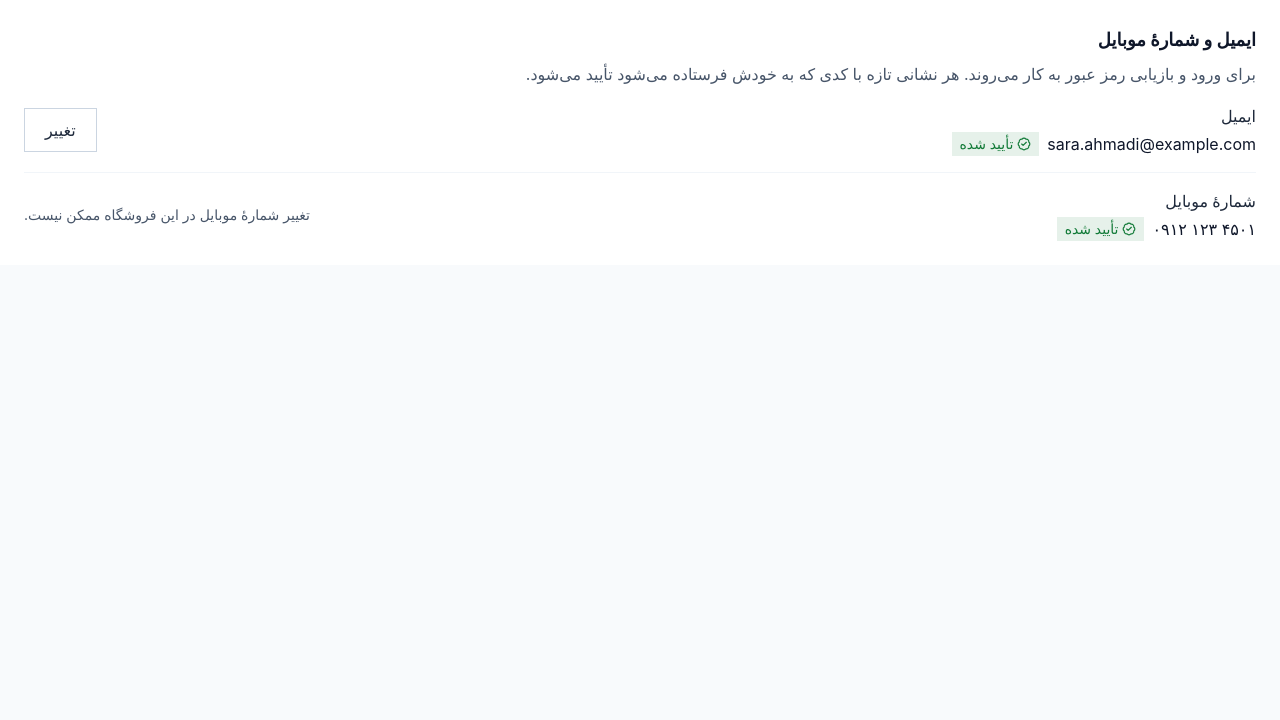
Test case: the authenticator code of a contact change › a code sent spent it: «ارسال مجدد کد» goes back for the next one
Click the button with aria-label "تغییر ایمیل" at (60, 130), box [24, 108, 97, 152]
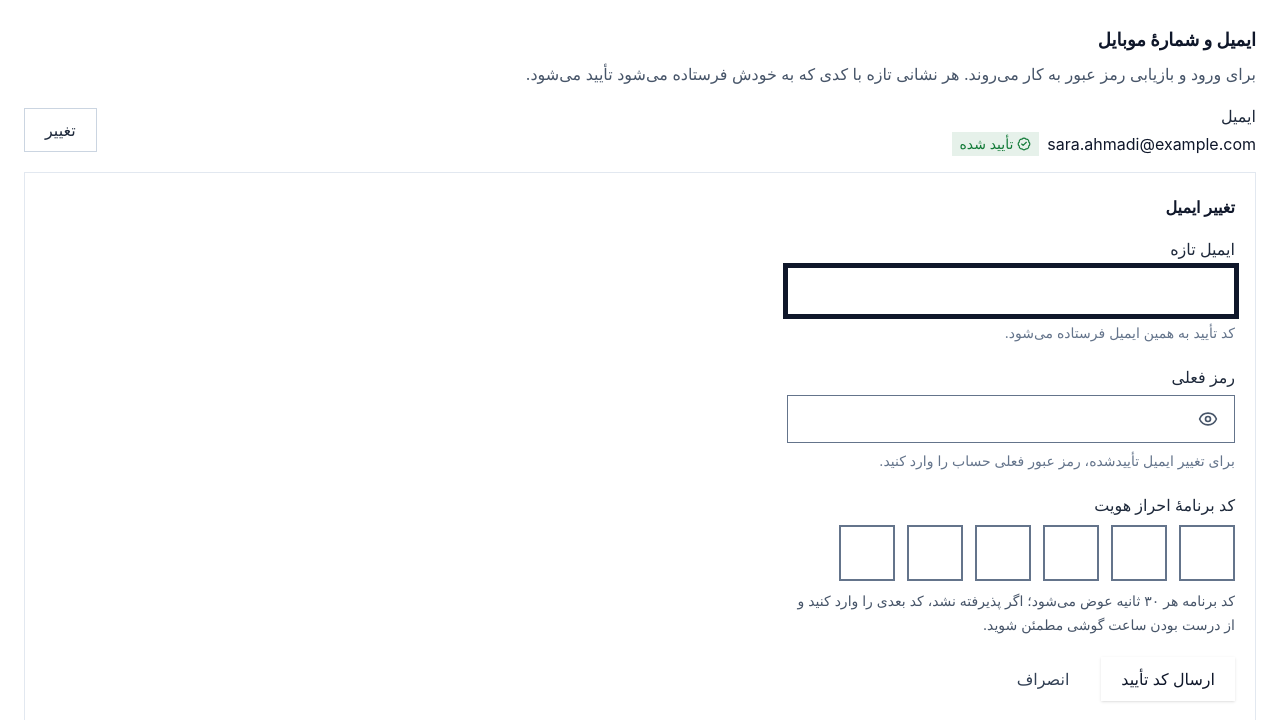
Type "n@example.com" into the field labelled "ایمیل تازه" at (1011, 291), box [788, 268, 1234, 314]
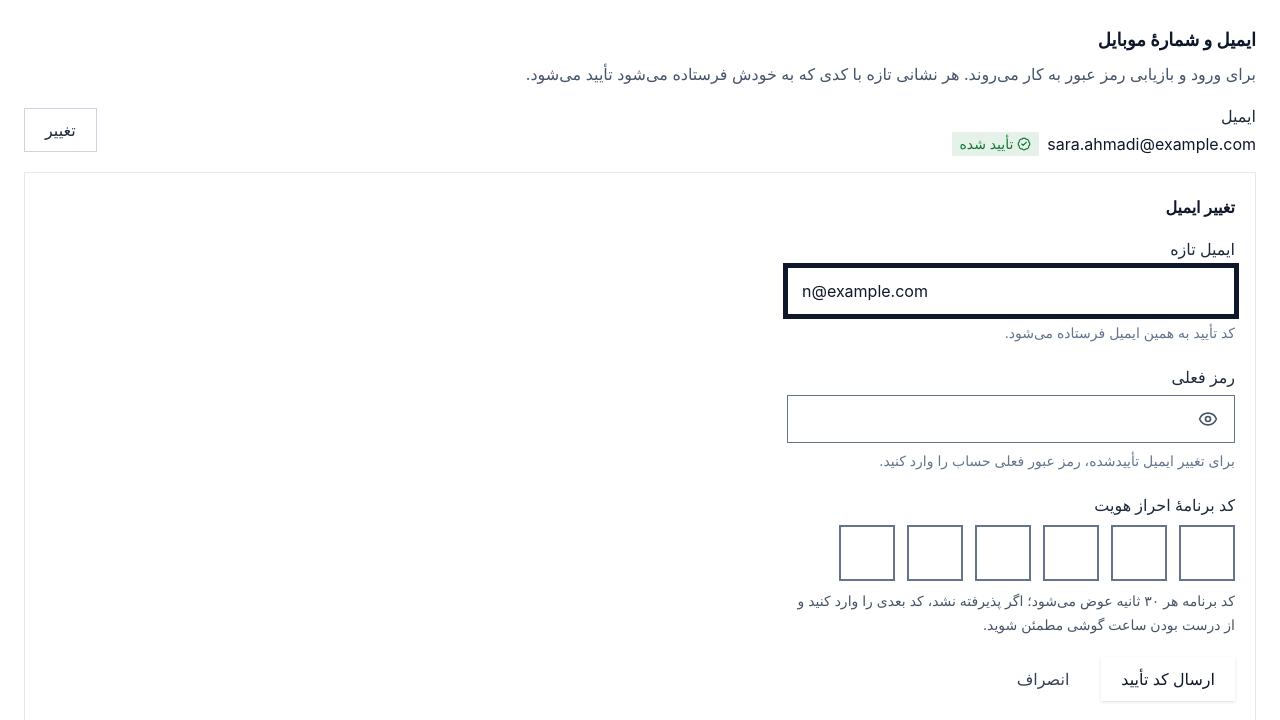
Type "Firefly@1234" into the password field labelled "رمز فعلی" at (987, 419), box [788, 396, 1186, 442]
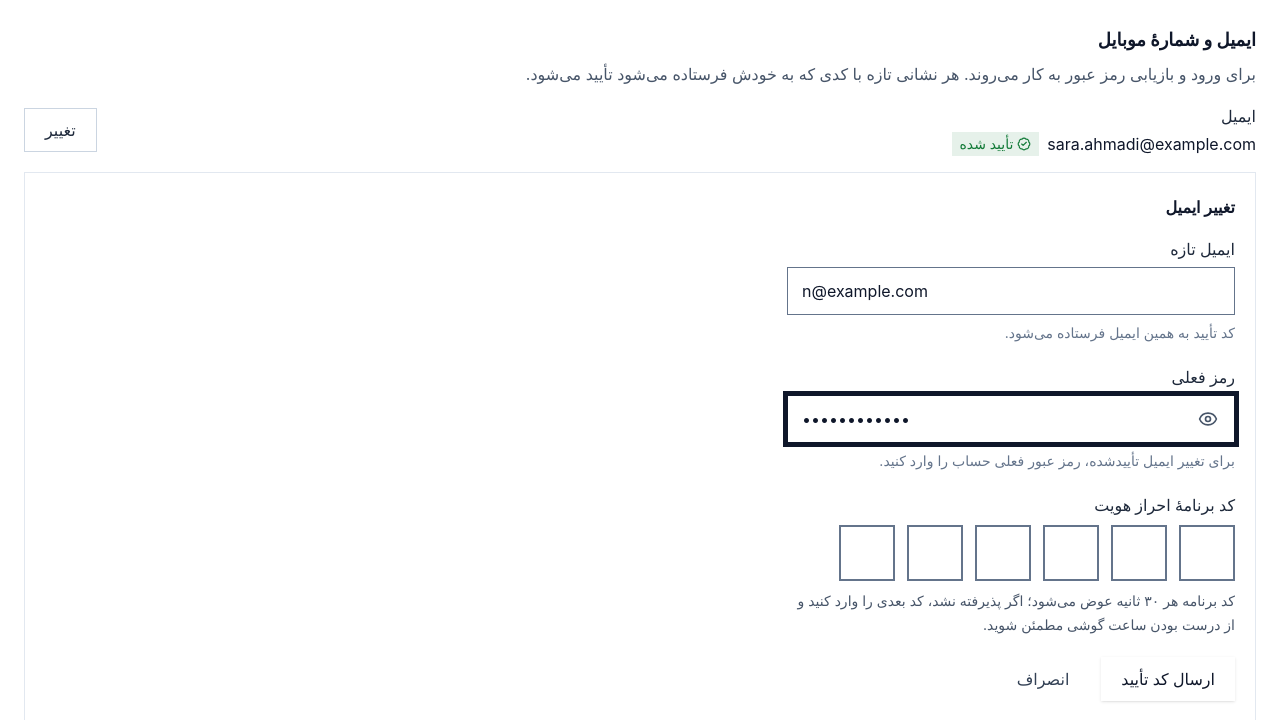
Type "654321" into the field named "رقم ۱" at (867, 553), box [839, 525, 895, 581]
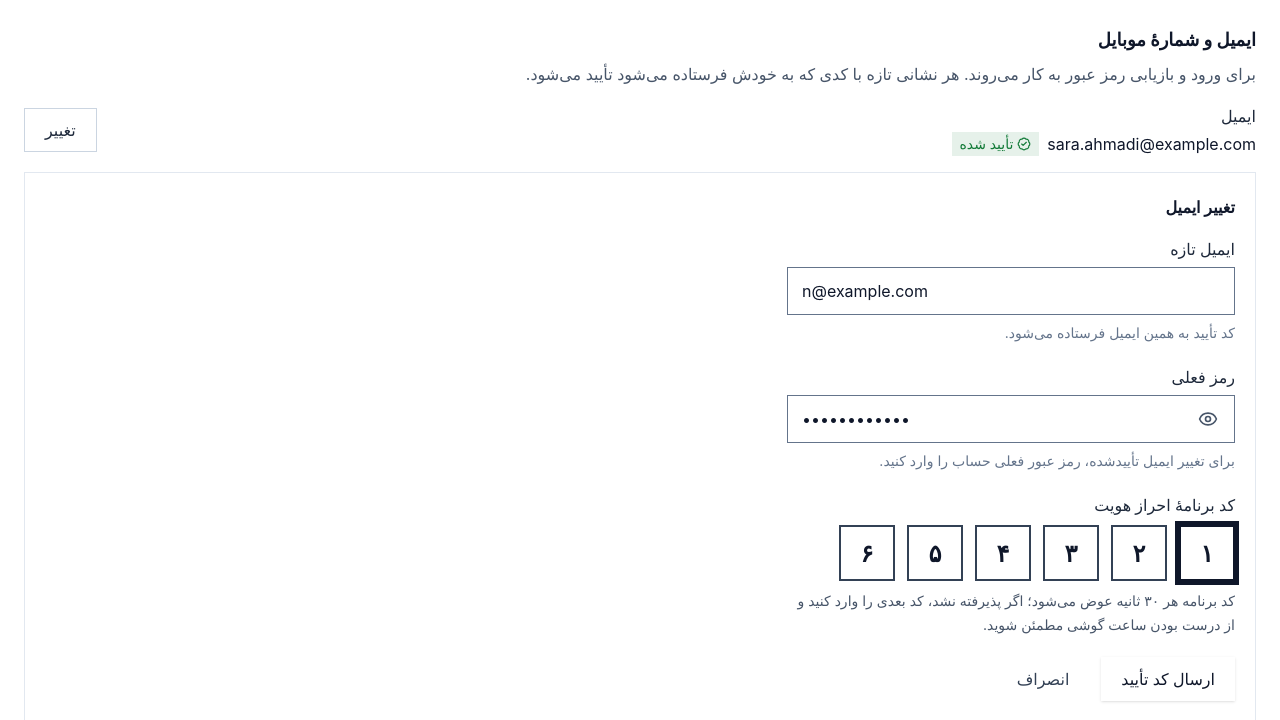
Click the button "ارسال کد تأیید" at (1168, 679), box [1101, 657, 1235, 701]
Wait 121000 ms
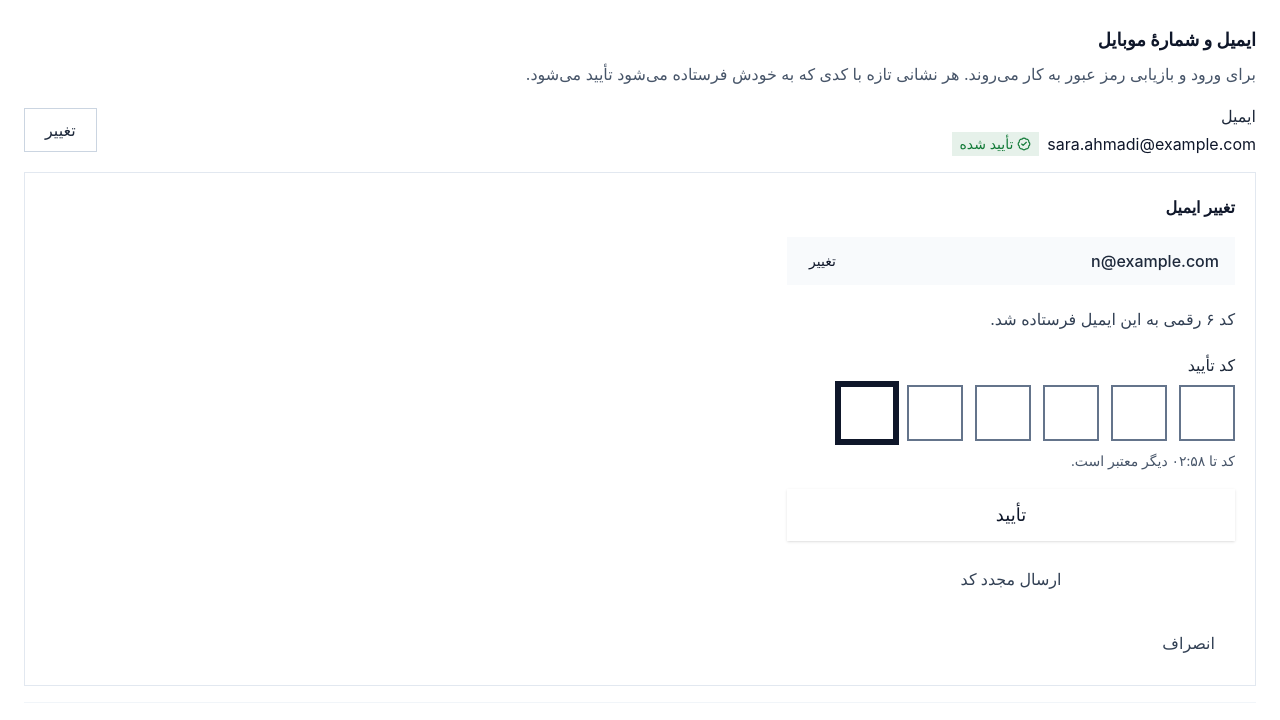
Check: the element named "کد تأیید" is shown, box [839, 385, 1235, 441]
Click the button "ارسال مجدد کد" at (1011, 579), box [787, 557, 1235, 601]
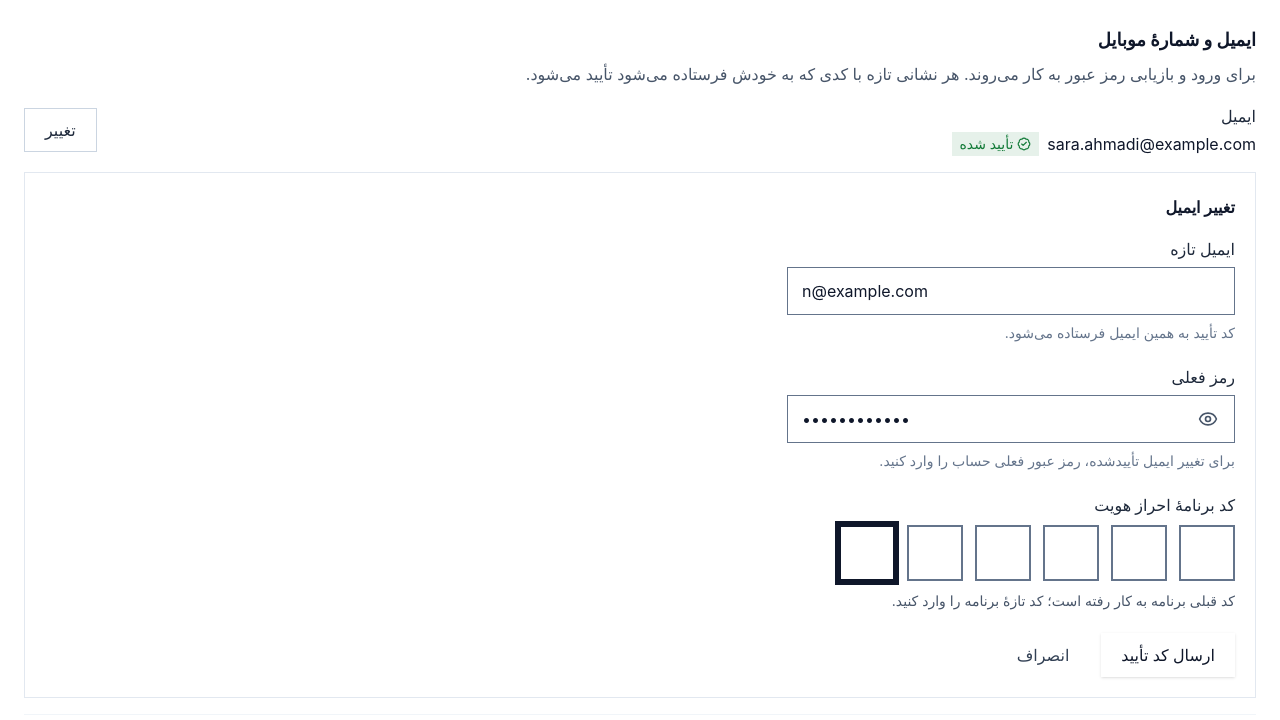
Check: the field named "رقم ۱" is empty, box [839, 525, 895, 581]
Check: the field named "رقم ۲" is empty, box [907, 525, 963, 581]
Check: the password field labelled "رمز فعلی" holds "Firefly@1234", box [788, 396, 1186, 442]
